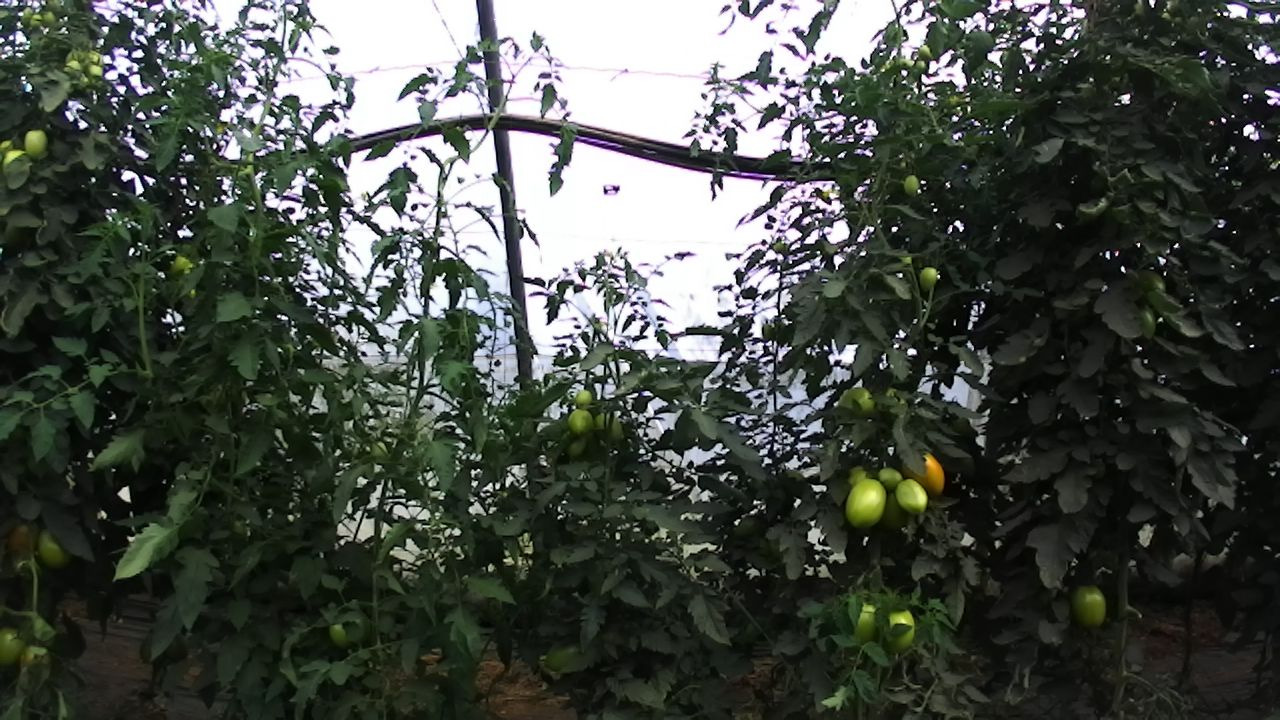tomato: (843, 476, 889, 531), (899, 447, 947, 499), (1066, 582, 1109, 632), (33, 526, 72, 572), (892, 476, 929, 516), (0, 624, 29, 669), (22, 126, 49, 164), (565, 406, 596, 438), (875, 465, 904, 494), (917, 265, 939, 293), (902, 172, 920, 197), (574, 388, 593, 409)
